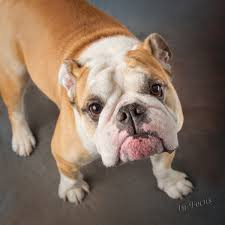Bulldog: (1, 1, 184, 190)
